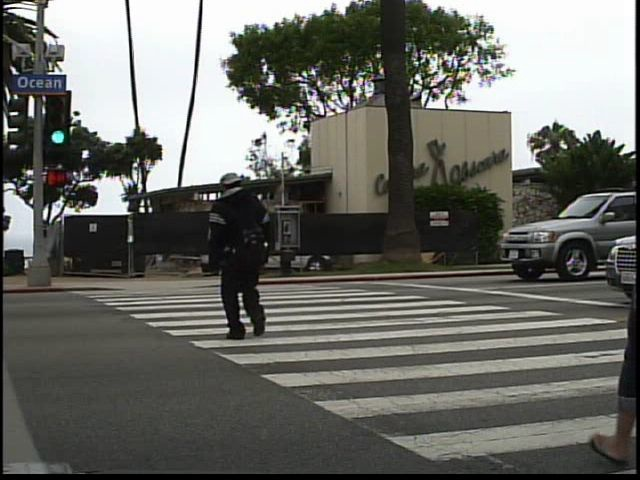person: (199, 163, 289, 355)
